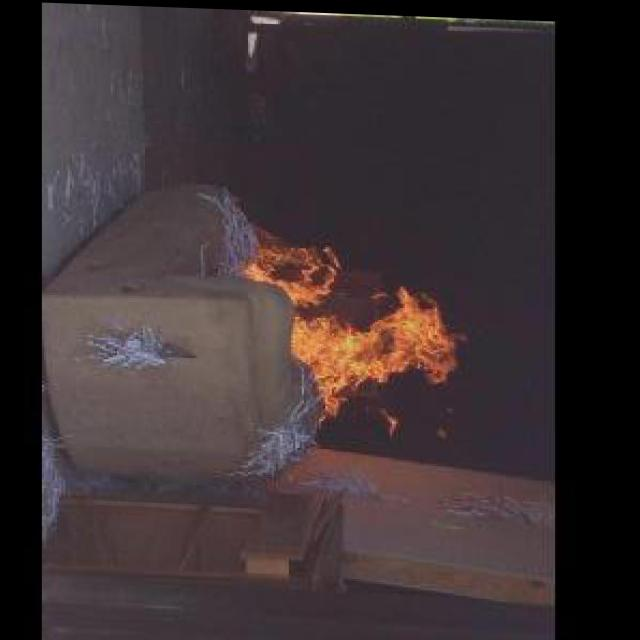Fire: (289, 285, 471, 426), (242, 218, 352, 307)
